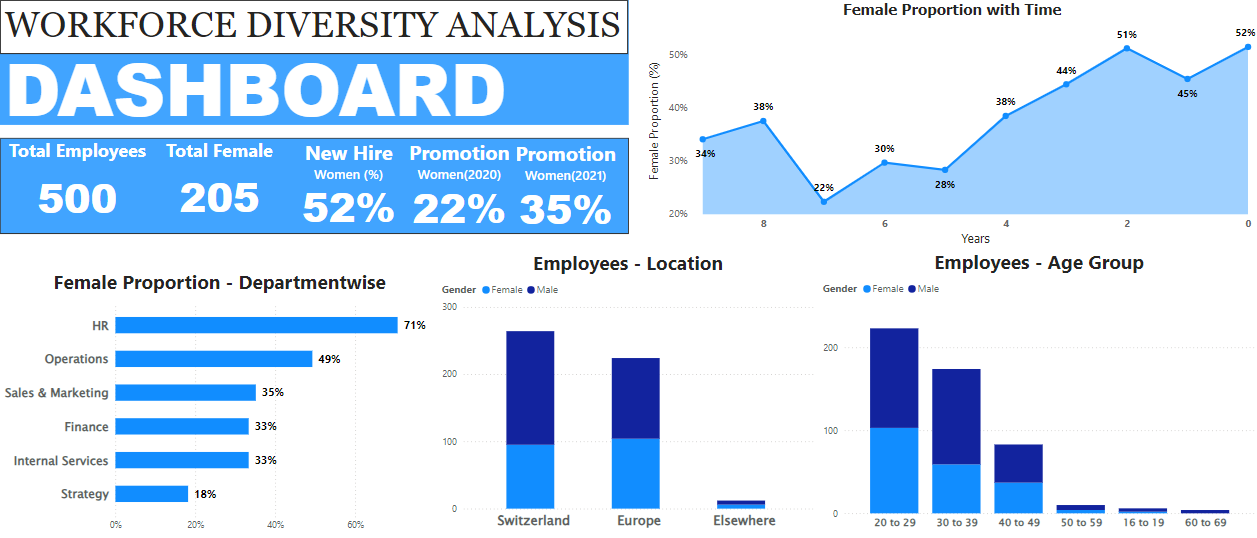

The page's visual inventory and layout, read from the dashboard file:
{"tool":"powerbi","page":{"name":"DASHBOARD","canvas":[1680,720],"ordinal":0},"visuals":[{"type":"shape","box":[0,183.7,839,127.8],"z":0},{"type":"card","title":"Total Employees","fields":{"Values":["CountNonNull(Pharma Group AG.Employee ID)"]},"box":[0,183.5,206,127.4],"z":1000},{"type":"columnChart","title":"Employees - Age Group","fields":{"Category":["Pharma Group AG.Age group"],"Y":["CountNonNull(Pharma Group AG.Age group)"],"Series":["Pharma Group AG.Gender"]},"box":[1092.5,331.9,587.5,388.1],"z":2000},{"type":"columnChart","title":"Employees - Location","fields":{"Category":["Pharma Group AG.Broad region group: nationality 1"],"Y":["CountNonNull(Pharma Group AG.Employee ID)"],"Series":["Pharma Group AG.Gender"]},"box":[584.8,333.6,506.9,386.4],"z":3000},{"type":"card","title":"Promotion","fields":{"Values":["Pharma Group AG.% Women Promoted 2020"]},"box":[535.7,183.5,155.5,127.4],"z":4000},{"type":"card","title":"Promotion","fields":{"Values":["Pharma Group AG.% Women Promoted 2021"]},"box":[680.5,185.5,148.1,126.8],"z":5000},{"type":"barChart","title":"Female Proportion - Departmentwise","fields":{"Category":["Table.Department"],"Y":["Sum(Table.%Female)"]},"box":[0,359.6,586.2,359.6],"z":6000},{"type":"lineChart","title":"Female Proportion with Time","fields":{"Y":["Sum(Female % with Time.% Female)"],"Category":["Female % with Time.Years since last hire"]},"box":[860.3,0,819.7,331.9],"z":7000},{"type":"card","title":"New Hire","fields":{"Values":["Pharma Group AG.% Women in New Hire"]},"box":[395.2,183.5,140.5,125.5],"z":8000},{"type":"shape","box":[0,0,839.1,166.7],"z":9000},{"type":"textbox","box":[0,0,838.4,71.7],"z":10000},{"type":"textbox","box":[0,35.6,846.6,174.2],"z":11000},{"type":"card","title":"Total Female","fields":{"Values":["Pharma Group AG.Total Female"]},"box":[209.8,183.5,166.7,125.5],"z":13000}]}

Visuals, with their boxes in screenshot pixels (x1, y1, x2, y2), scaled from the page's 1680x720 canvas onto the 1257x538 screenshot:
shape: box=[0, 137, 628, 233]
"Total Employees" card: box=[0, 137, 154, 232]
"Employees - Age Group" columnChart: box=[817, 248, 1256, 537]
"Employees - Location" columnChart: box=[438, 249, 817, 537]
"Promotion" card: box=[401, 137, 517, 232]
"Promotion" card: box=[509, 139, 620, 233]
"Female Proportion - Departmentwise" barChart: box=[0, 269, 439, 537]
"Female Proportion with Time" lineChart: box=[644, 0, 1256, 248]
"New Hire" card: box=[296, 137, 401, 231]
shape: box=[0, 0, 628, 125]
textbox: box=[0, 0, 627, 54]
textbox: box=[0, 27, 633, 157]
"Total Female" card: box=[157, 137, 282, 231]
